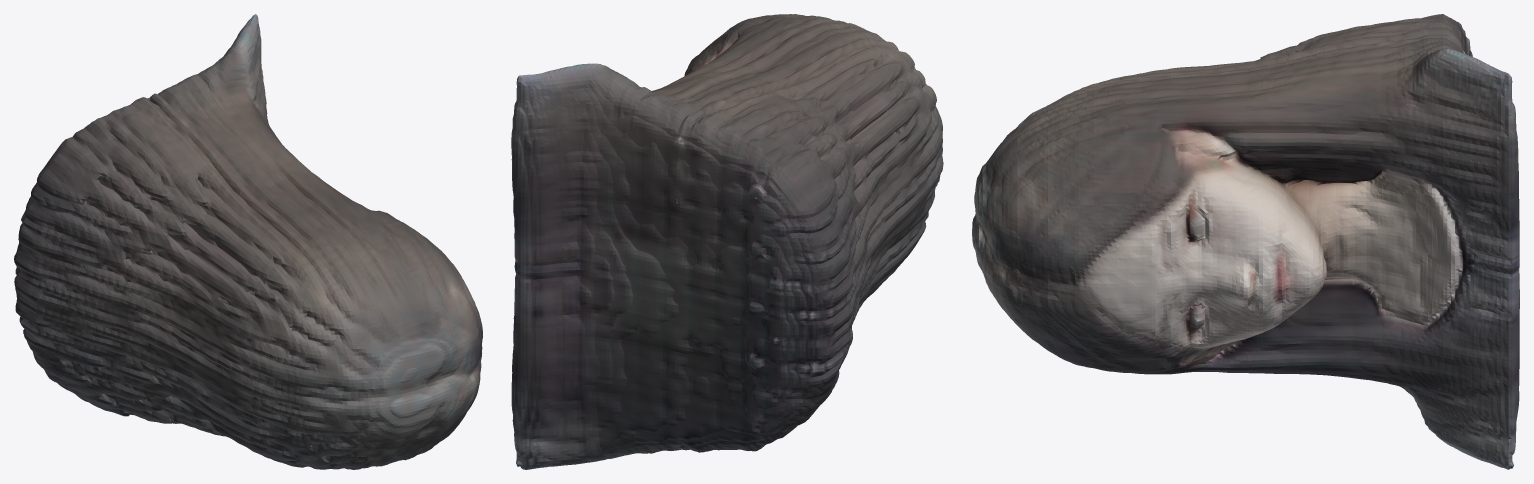
3 renders of one model, left to right at view 1: azimuth 30°, elevation 25°; view 2: azimuth 150°, elevation 25°; view 3: azimuth 270°, elevation 25°, orthographic. The views are drawn at different scales.
Parts seen in each view (by area): view 1: world; view 2: world; view 3: world.
Boxes of the visible parts, x1,y1,x2,y2 form: world: (14,14,482,469); world: (511,14,943,469); world: (972,14,1519,469).
Size of the model in its own units: 0.6731 by 0.7833 by 0.9739.
